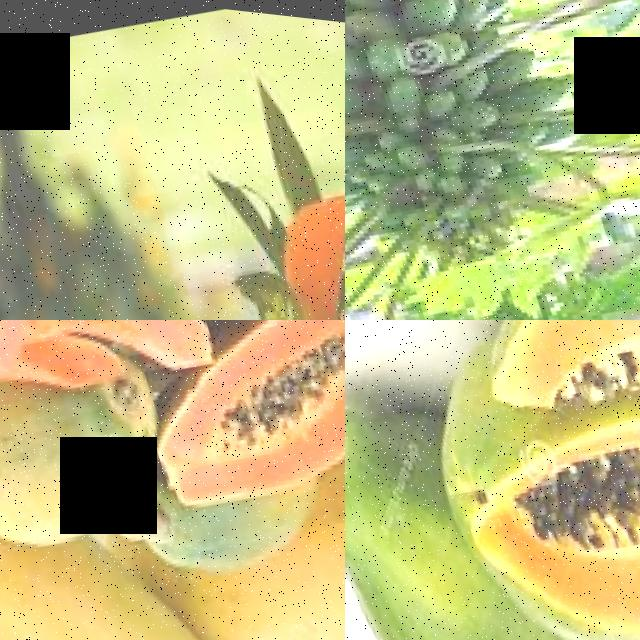orange: (259, 158, 345, 320)
pawpaw: (436, 338, 640, 640), (143, 320, 345, 520), (0, 350, 151, 574), (0, 515, 257, 640), (449, 320, 640, 484), (0, 320, 209, 408), (296, 420, 345, 640)
